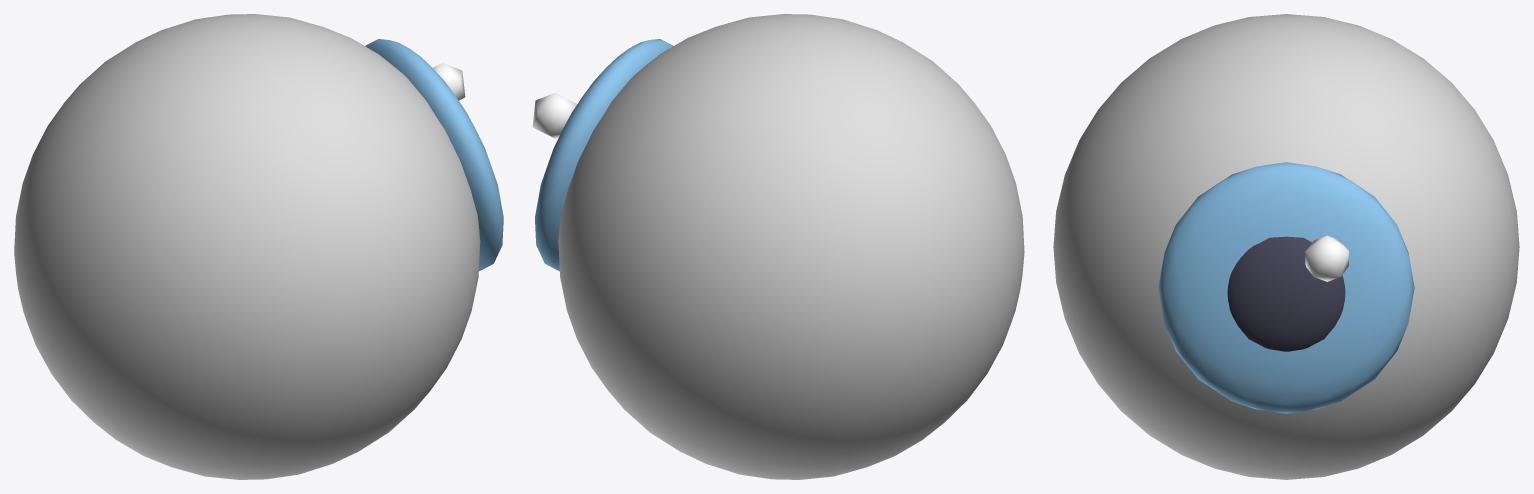
The model's file is cell.eyespot.glb.
3 renders of one model, left to right at view 1: azimuth 30°, elevation 25°; view 2: azimuth 150°, elevation 25°; view 3: azimuth 270°, elevation 25°, orthographic.
Parts seen in each view (by area): view 1: EyeWhite, Iris, Glint; view 2: EyeWhite, Iris, Glint; view 3: EyeWhite, Iris, Pupil, Glint.
Part boxes in pixels (x1=…): EyeWhite: x1=14, y1=14, x2=480, y2=479; Iris: x1=365, y1=39, x2=503, y2=271; Glint: x1=433, y1=62, x2=465, y2=100; EyeWhite: x1=558, y1=14, x2=1024, y2=479; Iris: x1=535, y1=39, x2=673, y2=271; Glint: x1=532, y1=92, x2=577, y2=138; EyeWhite: x1=1053, y1=14, x2=1519, y2=479; Iris: x1=1158, y1=162, x2=1414, y2=413; Pupil: x1=1227, y1=236, x2=1345, y2=351; Glint: x1=1305, y1=235, x2=1348, y2=281.
Size of the model in its own units: 0.4331 by 0.4 by 0.4.
